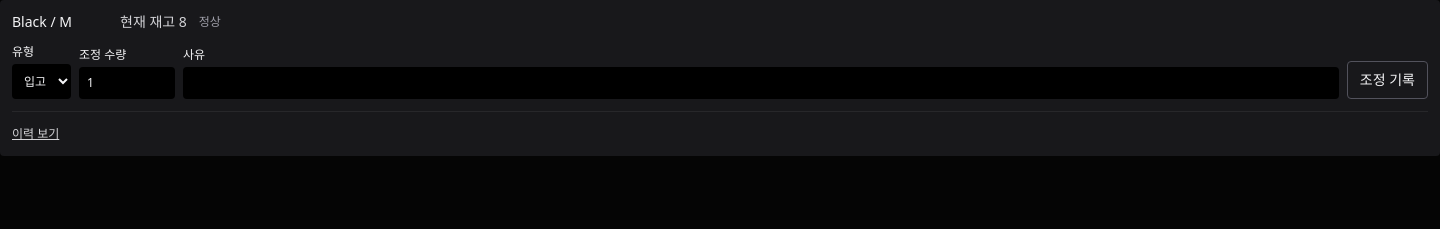
Test: AdminInventoryAdjustmentPanel › appends the next history page without duplicates
What coordinates should you click on to do the following:
click the button "이력 보기"
I would click on:
 (36, 134)
Its box is [12,126,59,142].
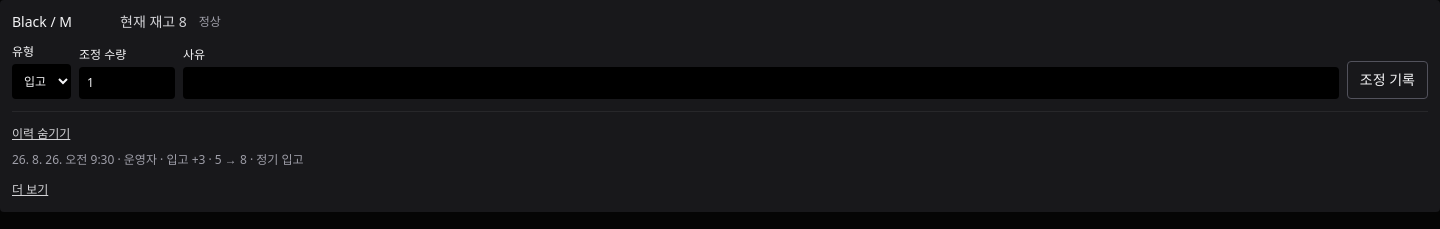
Check: the list item "입고 +3" is shown, box [12,151,304,168]
What coordinates should you click on to do the following:
click the button "더 보기"
I would click on:
 (30, 190)
Its box is [12,182,48,198].
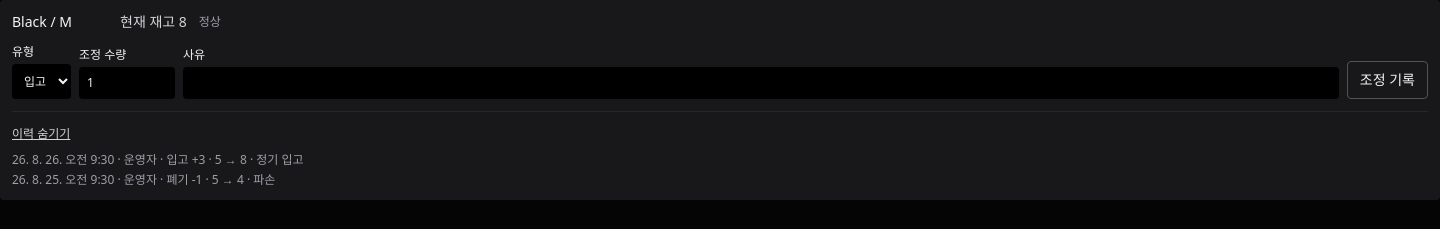
Check: the list item "폐기 -1" is shown, box [12,171,275,188]
Check: the number of list items "정기 입고" is 1, box [12,151,304,168]
